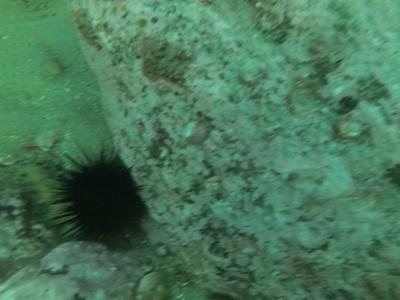holothurian: (141, 252, 212, 295)
urchin: (44, 144, 154, 244)
